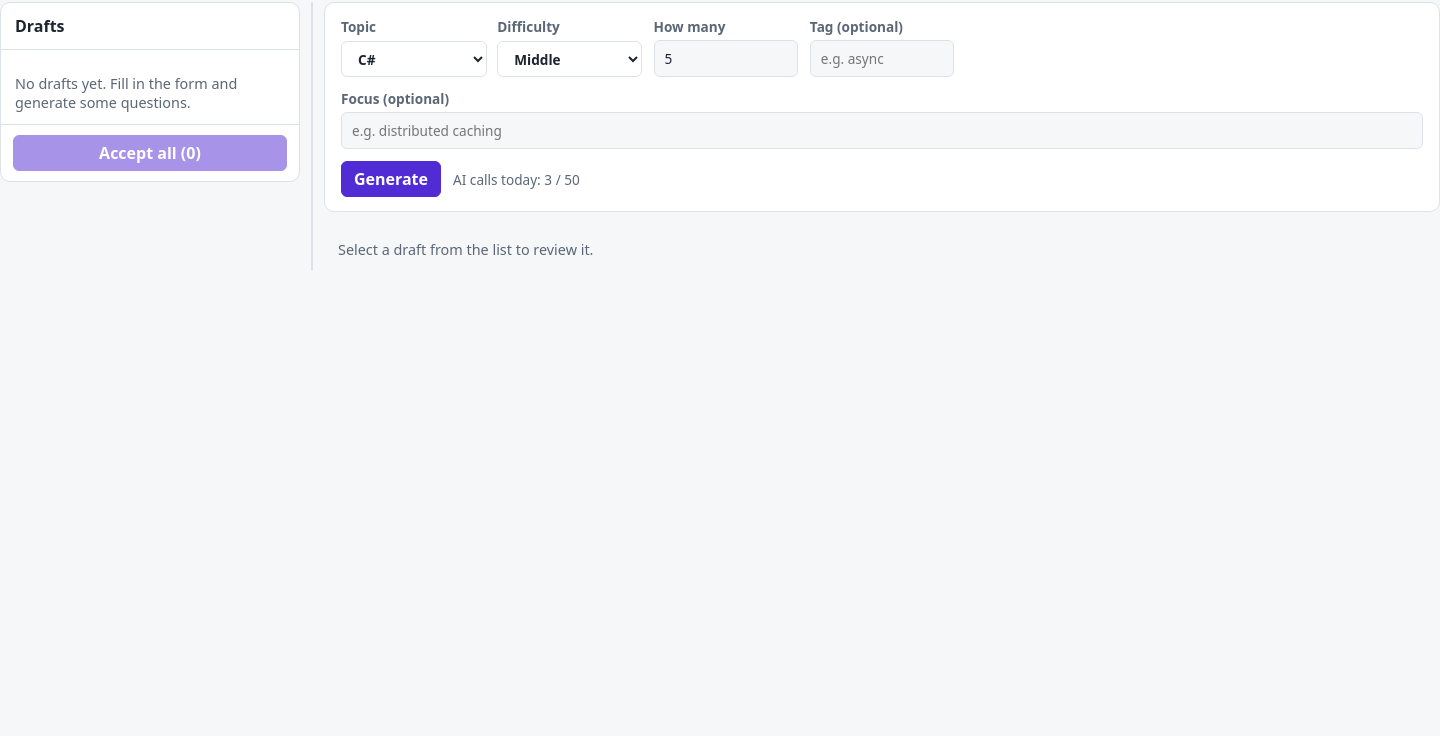
Scenario: GenerateQuestionsPage › reviewing Drafts › edits a Draft with the pencil, and the list follows
This screenshot has width=1440, height=736.
Click the button "Generate": (391, 179) 341,161 -> 441,197
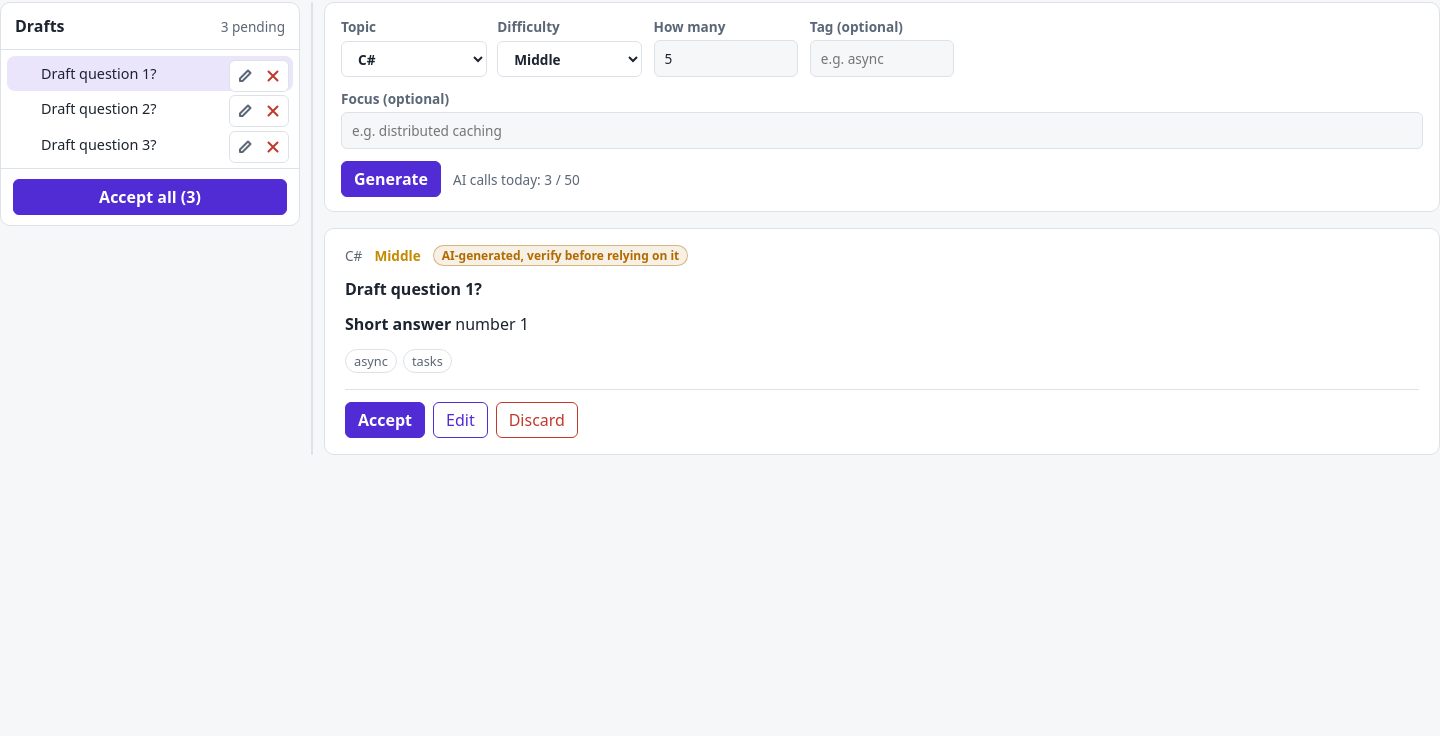
Result: the button named "Edit draft: Draft question 1?" is shown at 232,63 -> 258,89
Click the button named "Edit draft: Draft question 2?": (245, 111) 232,98 -> 258,124
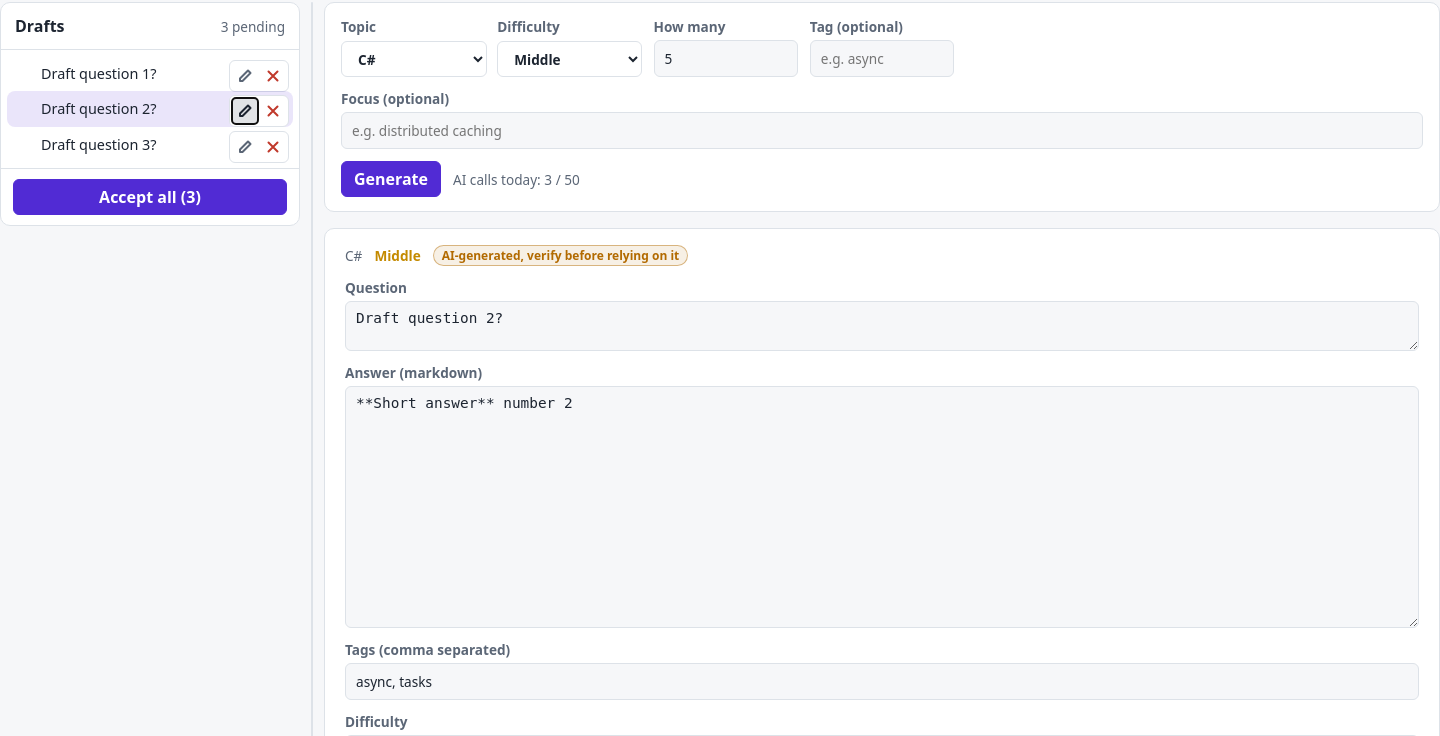
Replace the text in the text box labelled "Question" with "Reworded?": (882, 326) 345,301 -> 1419,351
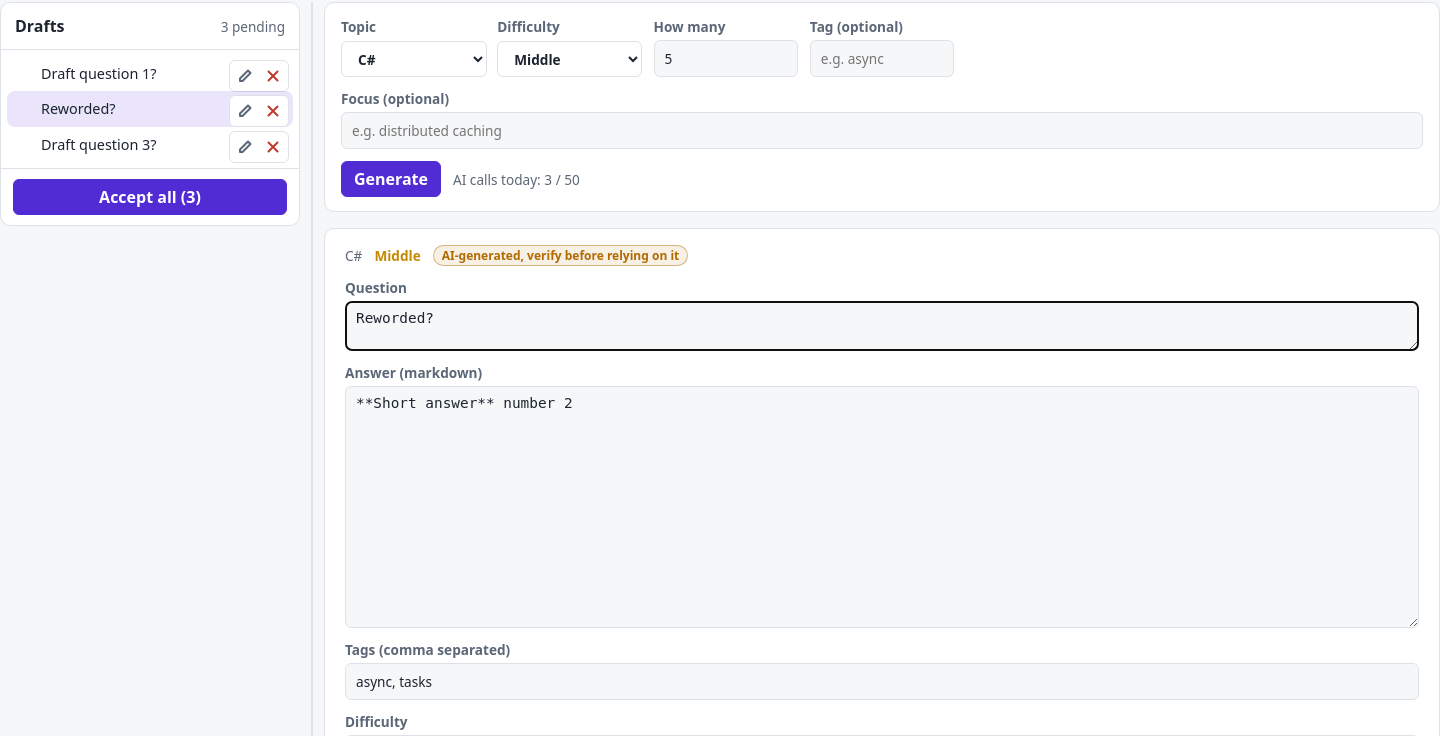
Replace the text in the field labelled "Tags (comma separated)" with "a, b,": (882, 682) 345,663 -> 1419,700
(page scrolled)
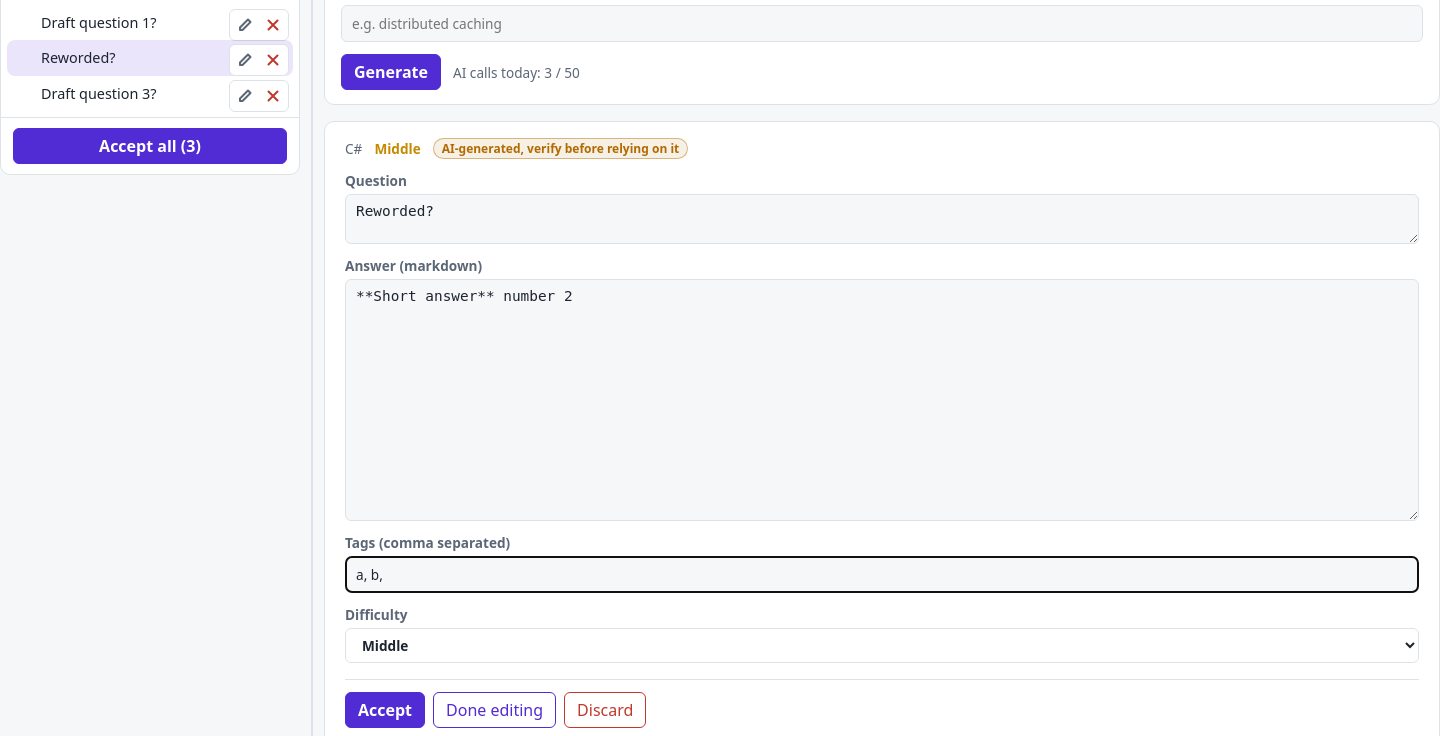
Select "Senior" in the dropdown labelled "Difficulty" below "Tags (comma separated)": (882, 646) 345,628 -> 1419,663
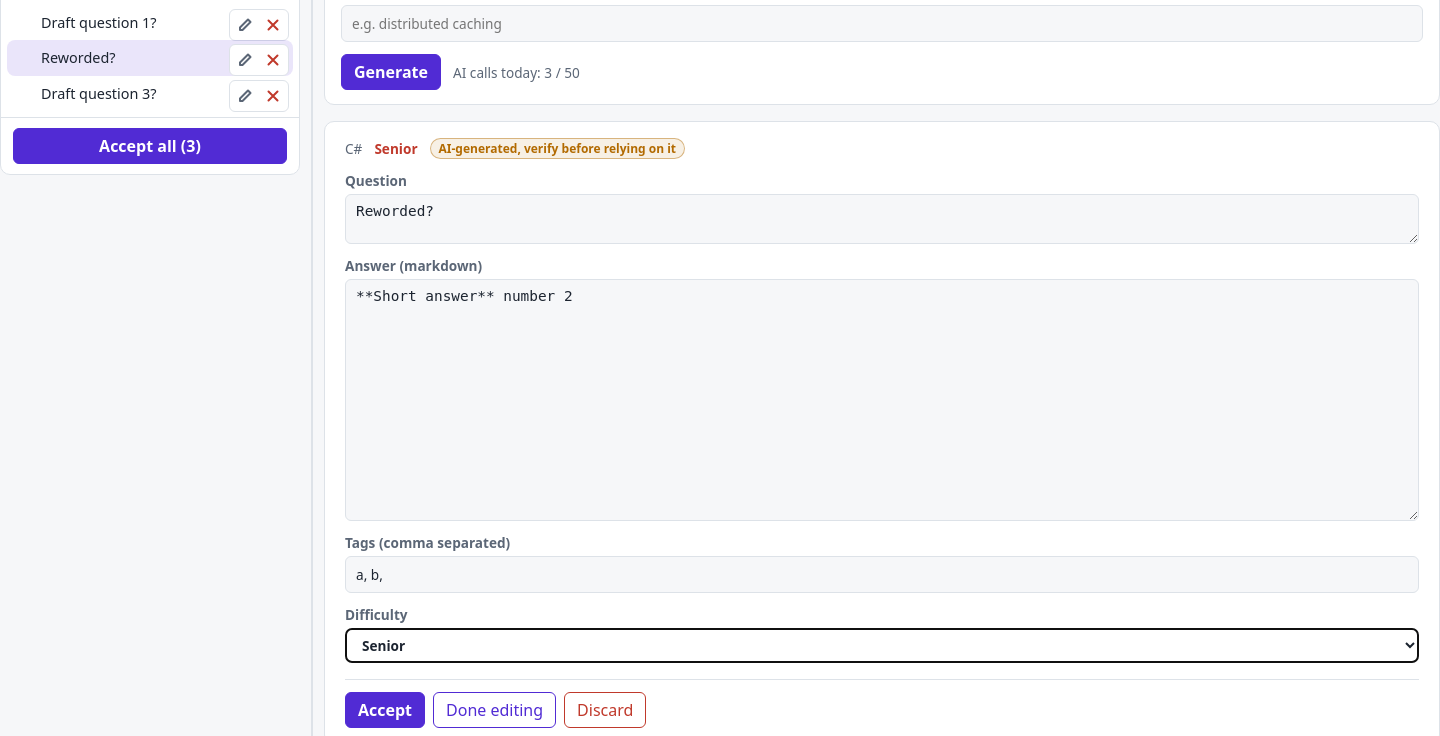
Result: the button "Reworded?" is shown at 7,40 -> 293,76
Click the button "Done editing": (495, 710) 433,692 -> 556,728
(page scrolled)
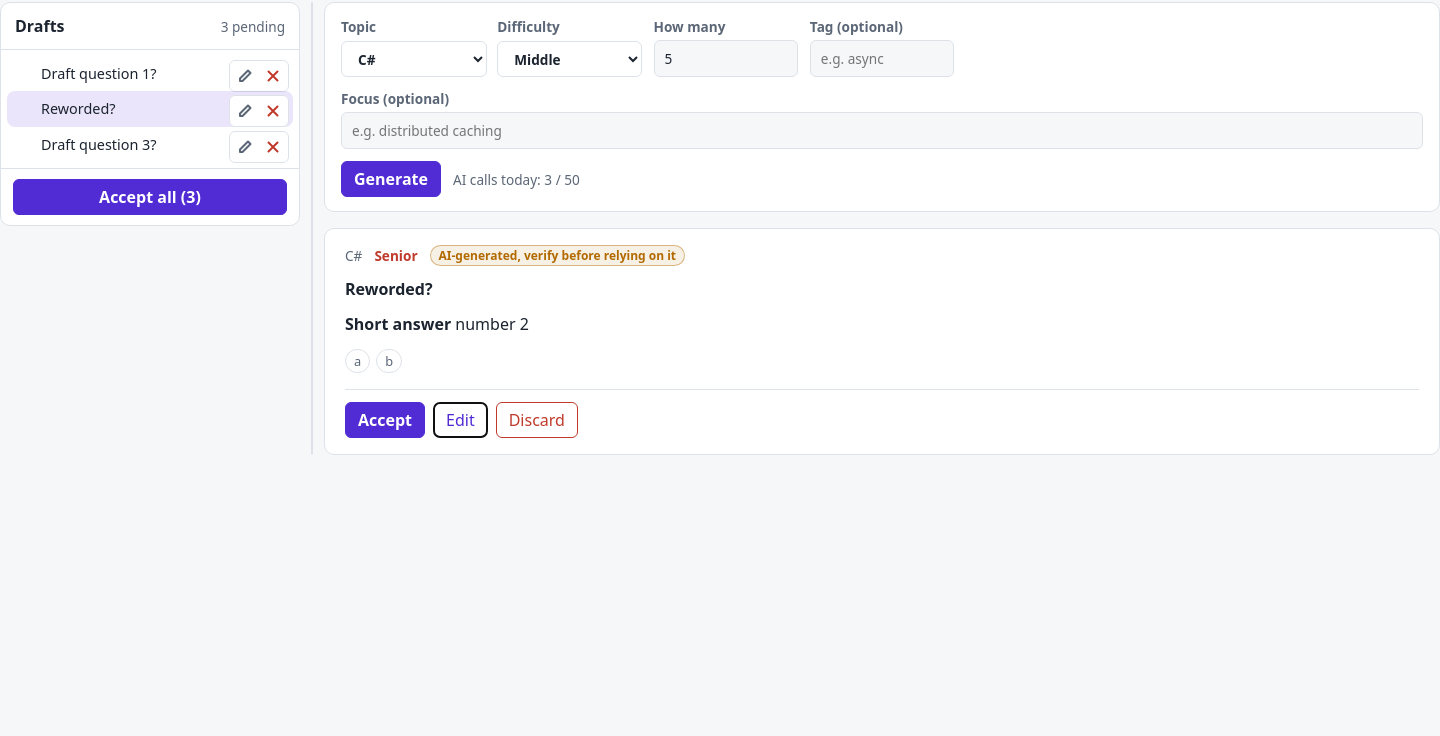
Result: the text "Senior" is shown at 374,246 -> 418,265
Result: the text "a" is shown at 345,349 -> 370,373
Result: the text "Reworded?" below "C#" is shown at 345,278 -> 433,300
